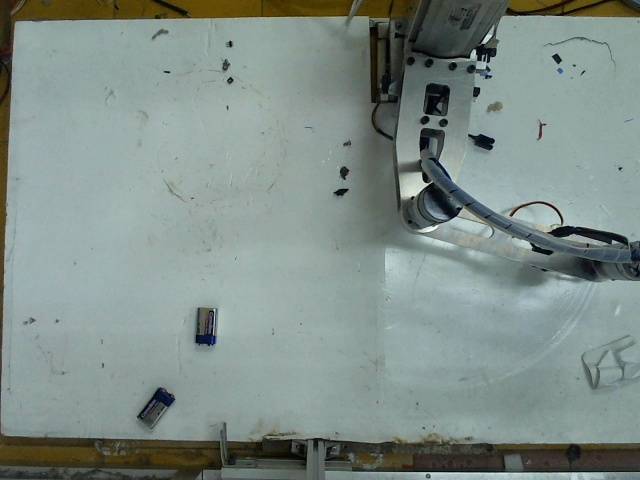battery: (135, 381, 175, 422), (190, 301, 220, 345)
